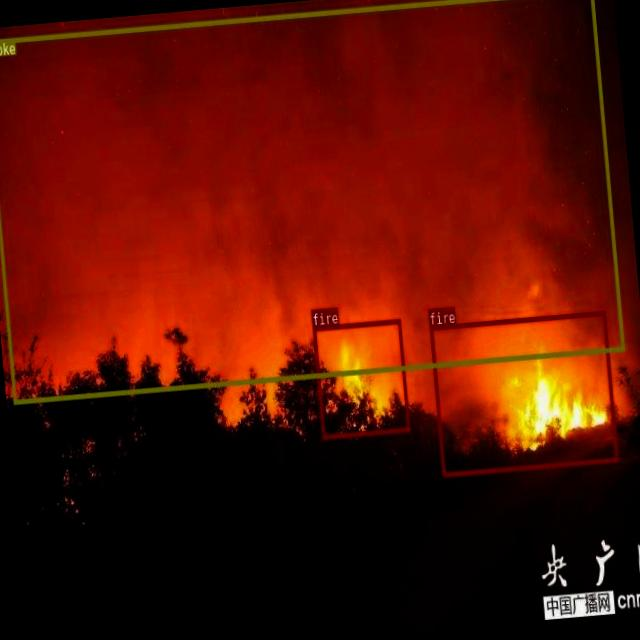fire: (429, 310, 617, 476), (312, 318, 409, 438)
smoke: (0, 0, 623, 403)
